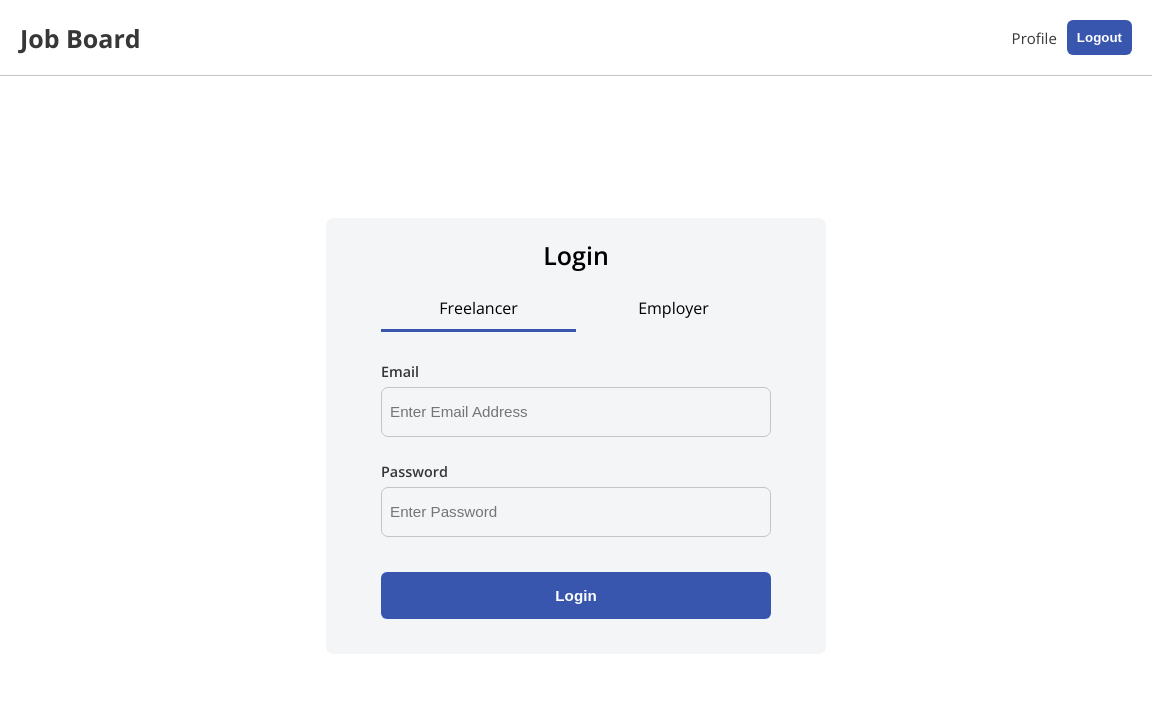
Test: Login › it should not submit and show input field error if we haven not enter any value
Expected: the field labelled "Email" is shown, [381,387,771,437]
Type "password123" into the password field labelled "Password". click: (576, 512)
box: [381,487,771,537]
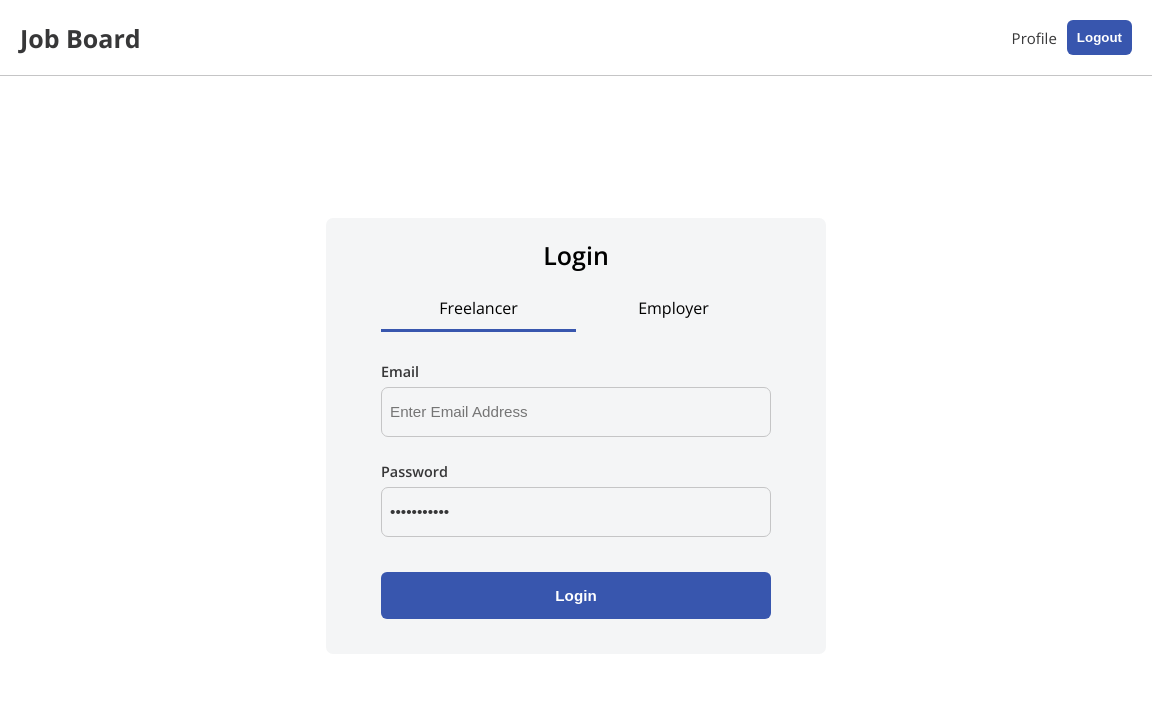
Click the button "Login". click: (576, 596)
box: [381,572,771,619]
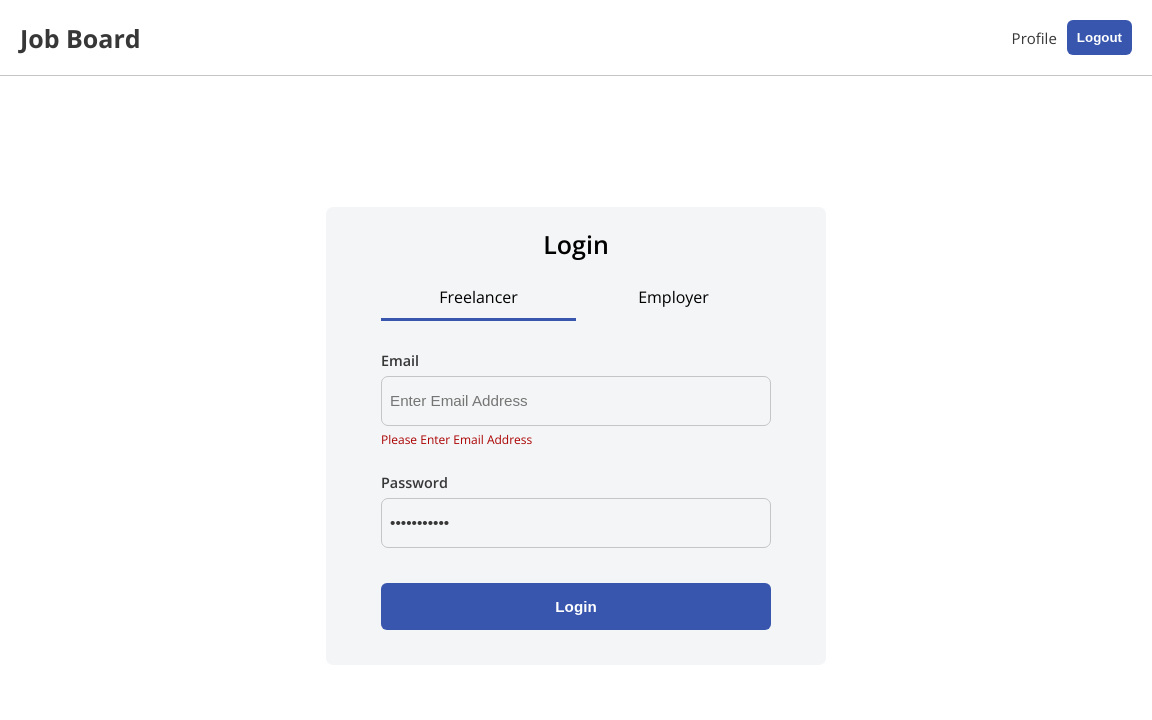
Expected: the text "Please Enter Email Address" is shown, [381,431,532,448]
